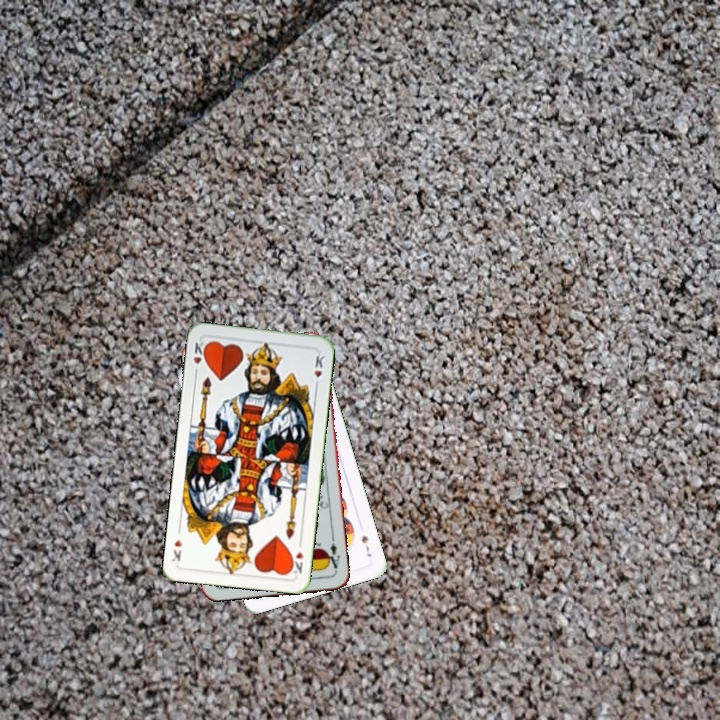EA: (322, 534, 343, 574)
HK: (286, 537, 306, 577), (189, 337, 209, 377)
S7: (357, 531, 374, 559)
